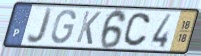4: (149, 12, 172, 49)
6: (98, 8, 129, 50)
C: (121, 12, 152, 48)
G: (50, 9, 78, 46)
J: (26, 5, 55, 46)
K: (75, 9, 103, 46)
